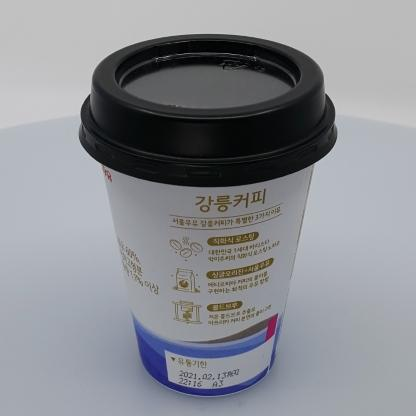----------250ML: (77, 34, 337, 397)
